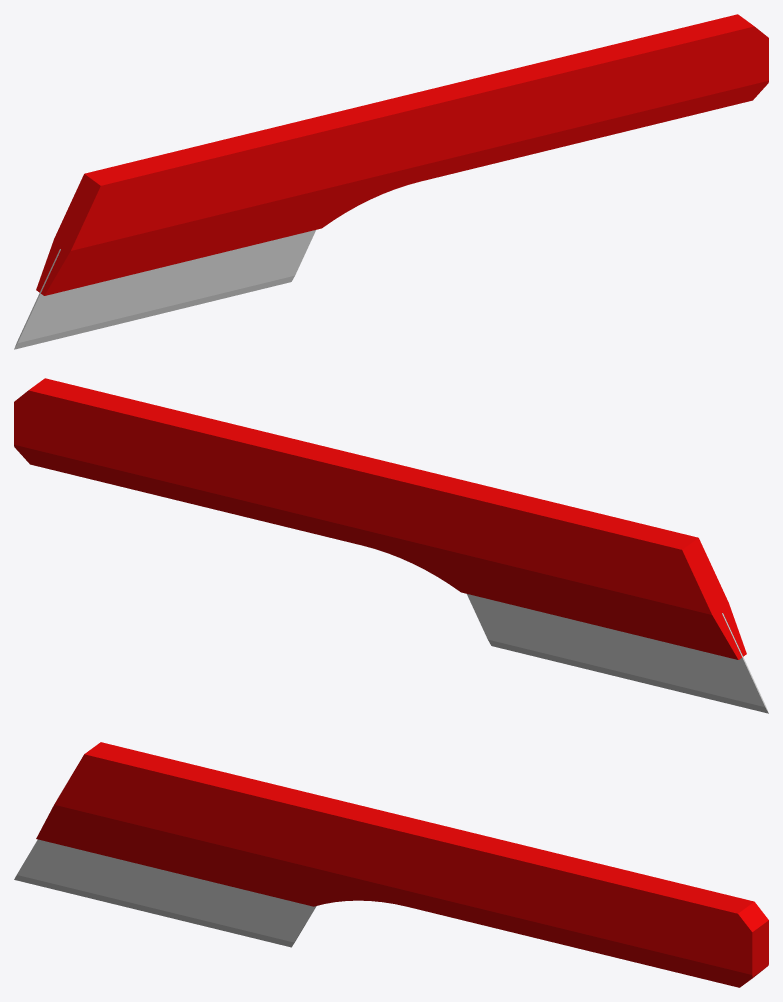
File: cutter.glb
3 views of the same model, one above another, from view 1: azimuth 30°, elevation 25°; view 2: azimuth 150°, elevation 25°; view 3: azimuth 330°, elevation 25° (orthographic).
Visible parts, largest first — view 1: Cutter.SLDPRT; view 2: Cutter.SLDPRT; view 3: Cutter.SLDPRT.
Boxes of the visible parts, x1,y1,x2,y2 form: Cutter.SLDPRT: (14,14,768,349); Cutter.SLDPRT: (14,378,768,713); Cutter.SLDPRT: (14,742,768,987).
Size of the model in its own units: 0.1555 by 0.03 by 0.006.
